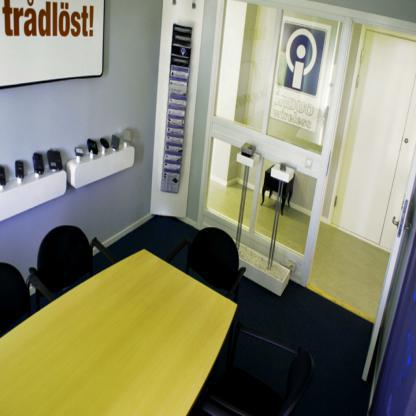door: (330, 27, 390, 233)
hinged: (353, 73, 360, 88), (359, 49, 365, 65), (334, 193, 338, 208)
knob: (402, 218, 414, 236), (390, 211, 398, 231)
